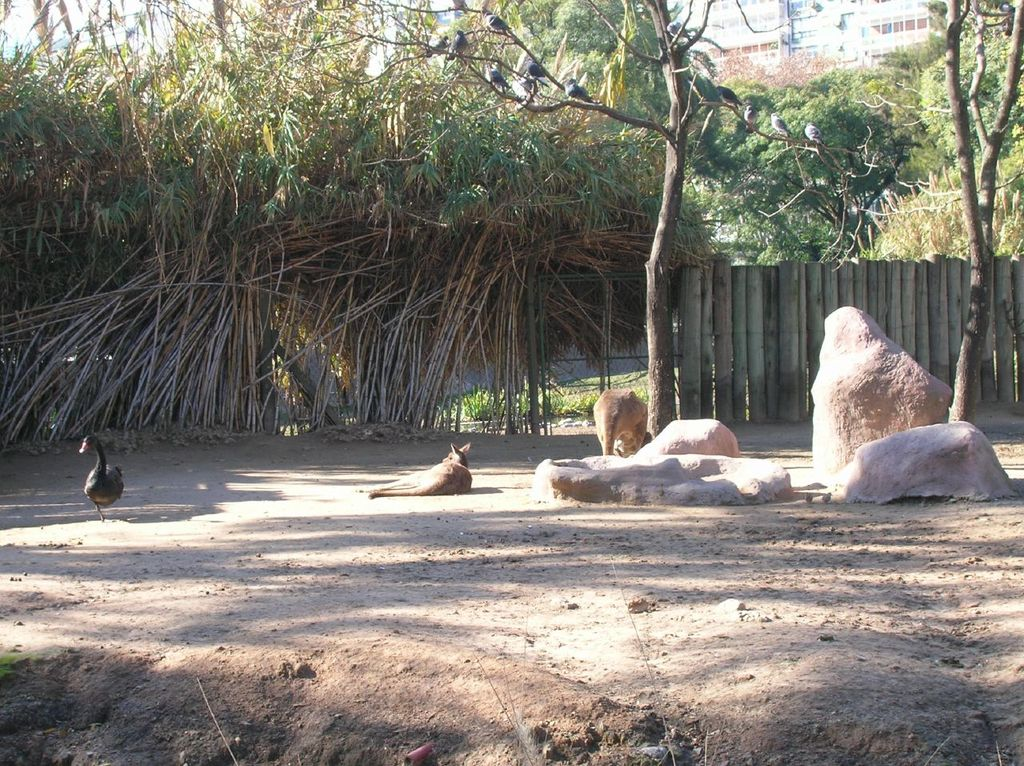Animal: (358, 440, 467, 496), (590, 383, 646, 453), (79, 434, 122, 520)
